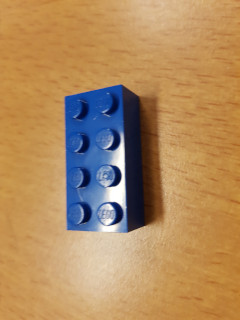2x4 blue: (63, 84, 146, 235)
